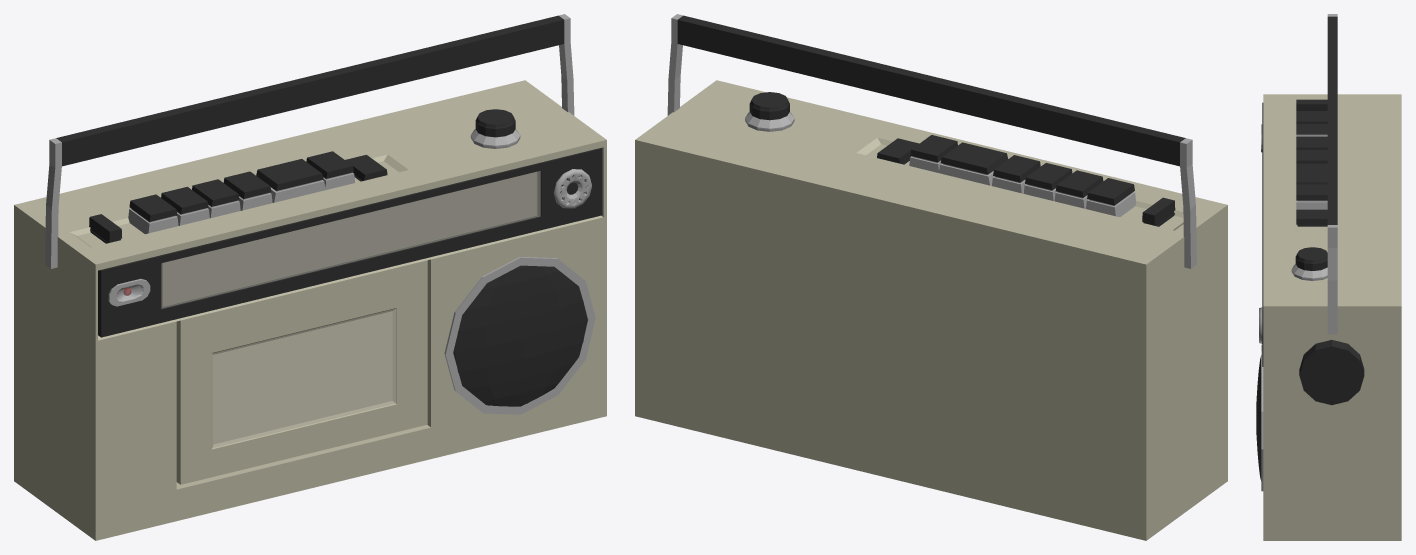
The model's file is TapeRadio.fbx.
3 renders of one model, left to right at view 1: azimuth 30°, elevation 25°; view 2: azimuth 150°, elevation 25°; view 3: azimuth 270°, elevation 25°, orthographic. The views are drawn at different scales.
Parts seen in each view (by area): view 1: Body, Tuner, Handle, TapeGlass, TuningGlass, Speaker, SpeakerRim, Button4, Button, Button3, Button1, Button2 (+6 smaller); view 2: Body, Handle, Button4, Button, Button3, Button1, Button2, Button5, Knob; view 3: Body, Handle, Knob1, Button5, Button4, Knob, Speaker, Button6, Tuner, Button2, Button3, SpeakerRim (+4 smaller).
Boxes of the visible parts, x1,y1,x2,y2 form: Body: [14, 80, 606, 540]; Tuner: [98, 148, 602, 337]; Handle: [45, 14, 574, 268]; TapeGlass: [212, 308, 395, 447]; TuningGlass: [161, 171, 540, 308]; Speaker: [453, 265, 587, 406]; SpeakerRim: [444, 257, 595, 414]; Button4: [256, 159, 325, 202]; Button: [128, 194, 178, 234]; Button3: [223, 171, 272, 210]; Button1: [161, 186, 209, 225]; Button2: [192, 179, 240, 218]; Body: [635, 80, 1227, 540]; Handle: [667, 14, 1196, 268]; Button4: [939, 142, 1007, 185]; Button: [1086, 178, 1136, 217]; Button3: [992, 155, 1040, 193]; Button1: [1054, 170, 1103, 208]; Button2: [1023, 163, 1072, 201]; Button5: [909, 135, 957, 172]; Knob: [749, 92, 789, 120]; Body: [1263, 94, 1401, 540]; Handle: [1327, 14, 1337, 334]; Knob1: [1299, 340, 1364, 405]; Button5: [1296, 184, 1327, 209]; Button4: [1296, 163, 1327, 184]; Knob: [1295, 247, 1327, 270]; Speaker: [1256, 355, 1261, 480]; Button6: [1296, 209, 1327, 226]; Tuner: [1262, 102, 1263, 366]; Button2: [1296, 136, 1327, 149]; Button3: [1296, 150, 1327, 163]; SpeakerRim: [1261, 344, 1263, 491].
Size of the model in its own units: 53.05 by 35.48 by 14.62.
